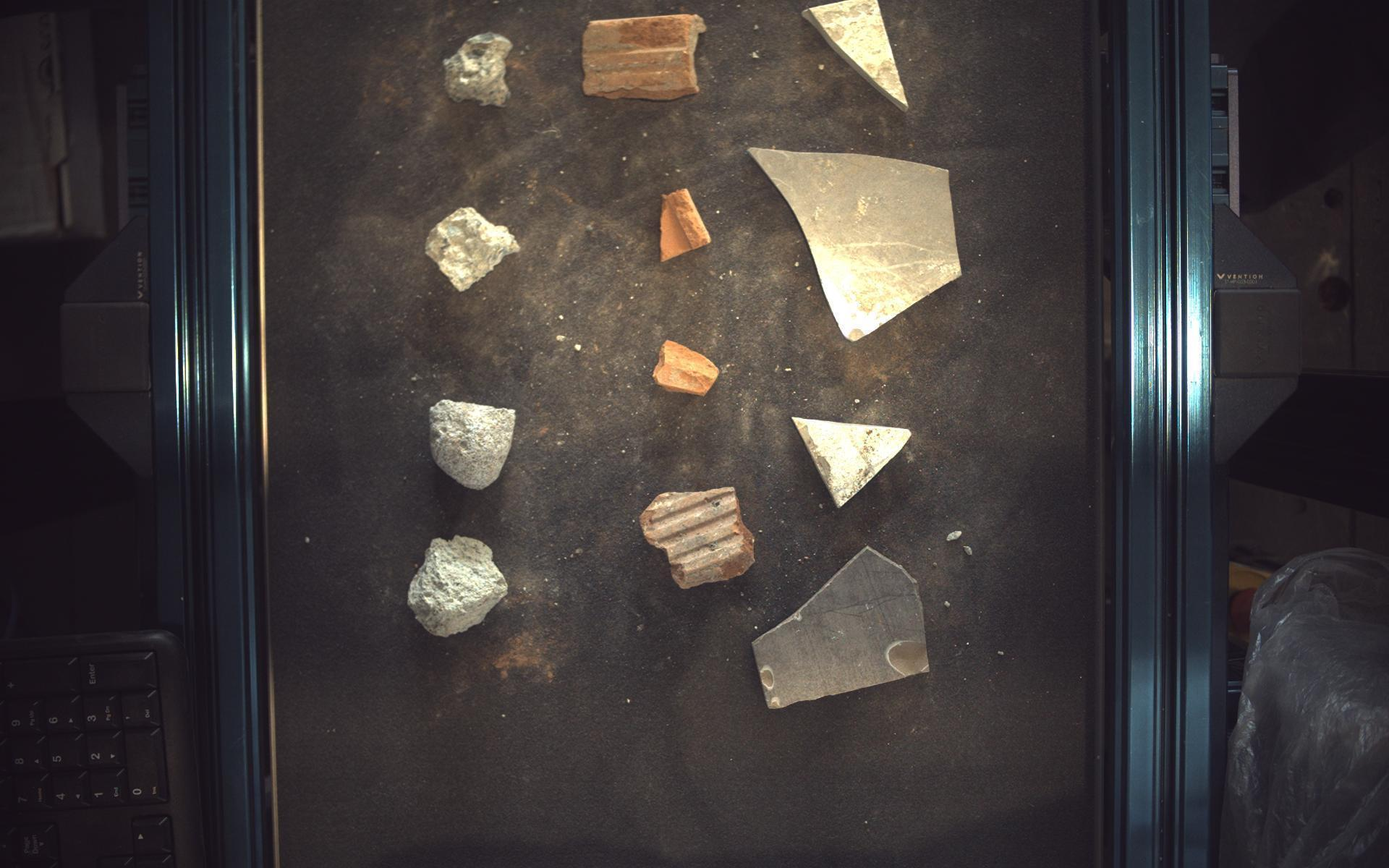brick: (641, 488, 756, 590), (582, 12, 708, 98), (661, 188, 712, 261), (654, 341, 721, 396)
concrete: (407, 536, 508, 638), (425, 206, 520, 290), (430, 400, 515, 490), (443, 31, 512, 105)
tile: (751, 147, 962, 341), (754, 548, 931, 710), (803, 1, 910, 110), (794, 417, 912, 508)
